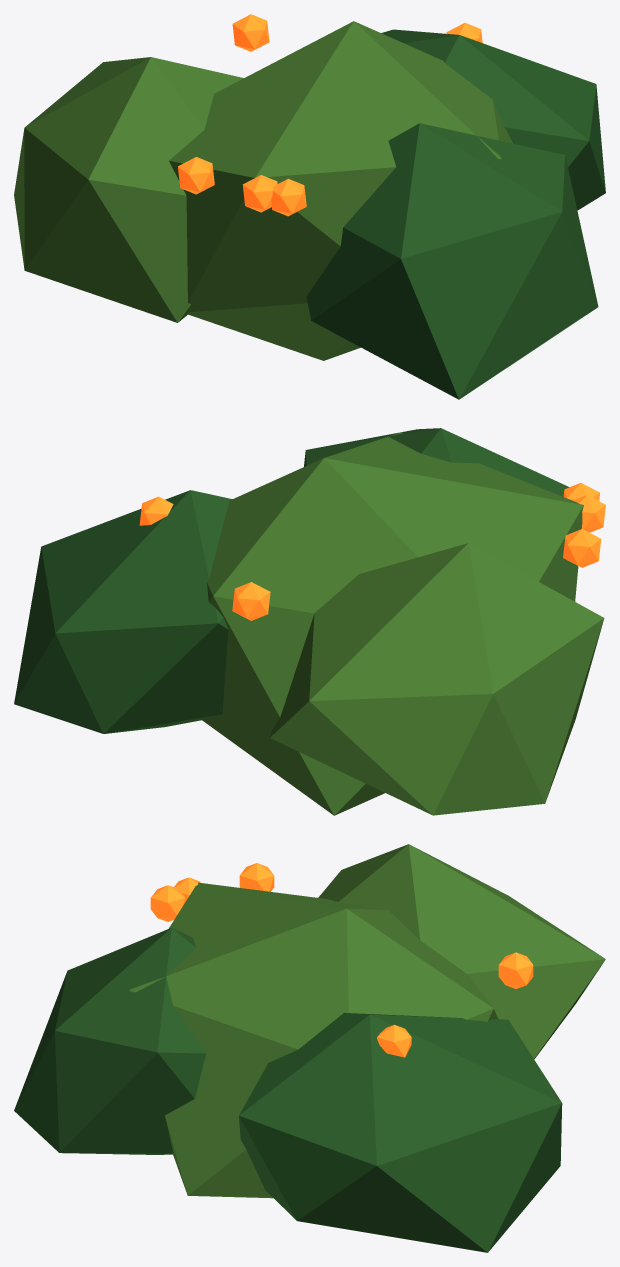
File: bush.glb
The picture shows the model from 3 angles, top to bottom: view 1: azimuth 30°, elevation 25°; view 2: azimuth 150°, elevation 25°; view 3: azimuth 270°, elevation 25°; orthographic projection. The views are drawn at different scales.
Parts seen in each view (by area): view 1: Bush; view 2: Bush; view 3: Bush.
Part boxes in pixels (x1,y1,x2,y2): Bush: (14, 14, 605, 399); Bush: (14, 428, 605, 815); Bush: (14, 844, 605, 1252).
Size of the model in its own units: 2.05 by 1.18 by 2.03.
